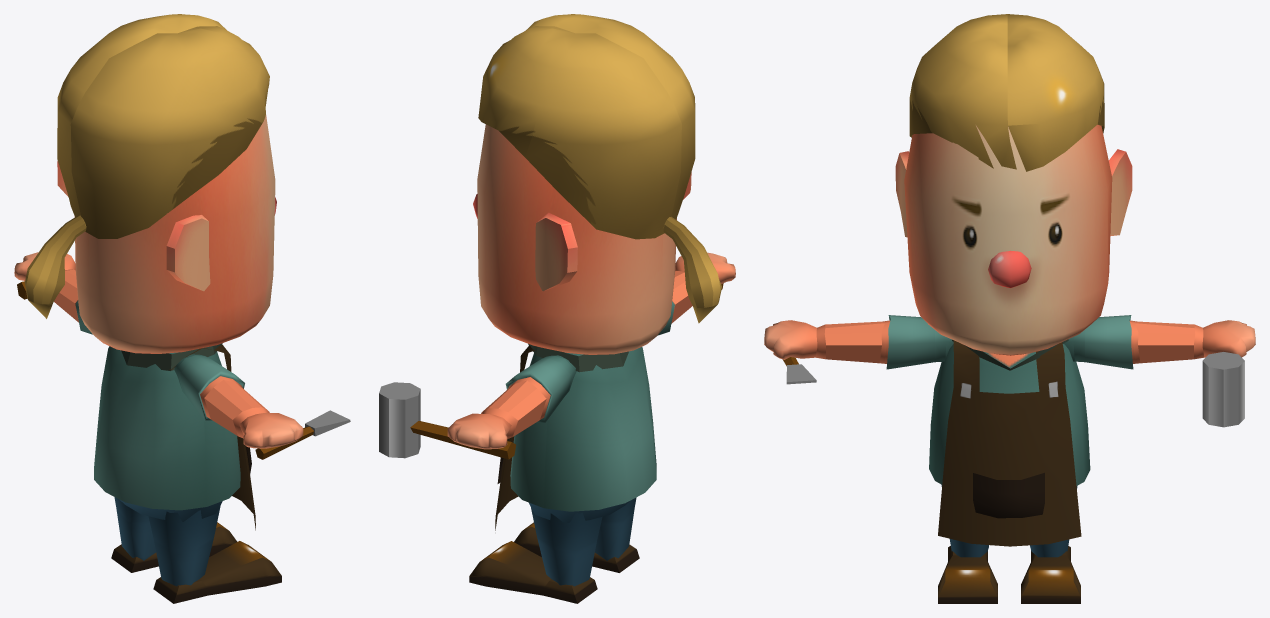
The model's file is Char_Cre_AR_03.fbx.
The picture shows the model from 3 angles, left to right: view 1: azimuth 30°, elevation 25°; view 2: azimuth 150°, elevation 25°; view 3: azimuth 270°, elevation 25°; orthographic projection.
Parts seen in each view (by area): view 1: Hair_Sculptor, Head_Sculptor, Body_Sculptor, R_Leg_Sculptor, R_Arm_Sculptor, Ponytail_Sculptor, L_Leg_Sculptor, R_Ear_Sculptor, L_Arm_Sculptor, Collar_Sculptor, Scarf_Sculptor, Tools_Sculptor; view 2: Hair_Sculptor, Head_Sculptor, Body_Sculptor, L_Leg_Sculptor, L_Arm_Sculptor, Hammer_Sculptor, L_Ear_Sculptor, Ponytail_Sculptor, R_Leg_Sculptor, R_Arm_Sculptor, Collar_Sculptor, Scarf_Sculptor; view 3: Head_Sculptor, Hair_Sculptor, Scarf_Sculptor, R_Arm_Sculptor, L_Arm_Sculptor, Body_Sculptor, R_Leg_Sculptor, L_Leg_Sculptor, Hammer_Sculptor, Pocket_Sculptor, L_Ear_Sculptor, Nose_Sculptor (+1 smaller).
Boxes of the visible parts, <box> form: Hair_Sculptor: <box>57,14,269,238</box>; Head_Sculptor: <box>74,115,275,353</box>; Body_Sculptor: <box>94,346,240,521</box>; R_Leg_Sculptor: <box>148,505,281,603</box>; R_Arm_Sculptor: <box>174,354,303,448</box>; Ponytail_Sculptor: <box>24,215,86,318</box>; L_Leg_Sculptor: <box>111,497,237,572</box>; R_Ear_Sculptor: <box>166,215,210,291</box>; L_Arm_Sculptor: <box>14,252,92,334</box>; Collar_Sculptor: <box>121,343,222,370</box>; Scarf_Sculptor: <box>169,344,255,530</box>; Tools_Sculptor: <box>255,410,350,459</box>; Hair_Sculptor: <box>478,14,695,239</box>; Head_Sculptor: <box>477,124,676,354</box>; Body_Sculptor: <box>510,347,656,522</box>; L_Leg_Sculptor: <box>469,508,602,603</box>; L_Arm_Sculptor: <box>447,355,576,449</box>; Hammer_Sculptor: <box>379,382,515,459</box>; L_Ear_Sculptor: <box>535,212,577,291</box>; Ponytail_Sculptor: <box>663,216,721,323</box>; R_Leg_Sculptor: <box>514,497,639,572</box>; R_Arm_Sculptor: <box>657,252,735,335</box>; Collar_Sculptor: <box>528,343,628,372</box>; Scarf_Sculptor: <box>495,345,563,530</box>; Head_Sculptor: <box>904,124,1112,355</box>; Hair_Sculptor: <box>909,14,1104,171</box>; Scarf_Sculptor: <box>938,340,1081,546</box>; R_Arm_Sculptor: <box>764,315,953,369</box>; L_Arm_Sculptor: <box>1064,315,1255,369</box>; Body_Sculptor: <box>929,344,1090,485</box>; R_Leg_Sculptor: <box>938,484,997,603</box>; L_Leg_Sculptor: <box>1021,485,1080,603</box>; Hammer_Sculptor: <box>1202,352,1244,427</box>; Pocket_Sculptor: <box>973,472,1044,518</box>; L_Ear_Sculptor: <box>1108,149,1132,236</box>; Nose_Sculptor: <box>988,250,1031,287</box>.
Size of the model in its own units: 3.93 by 8.21 by 6.8.
